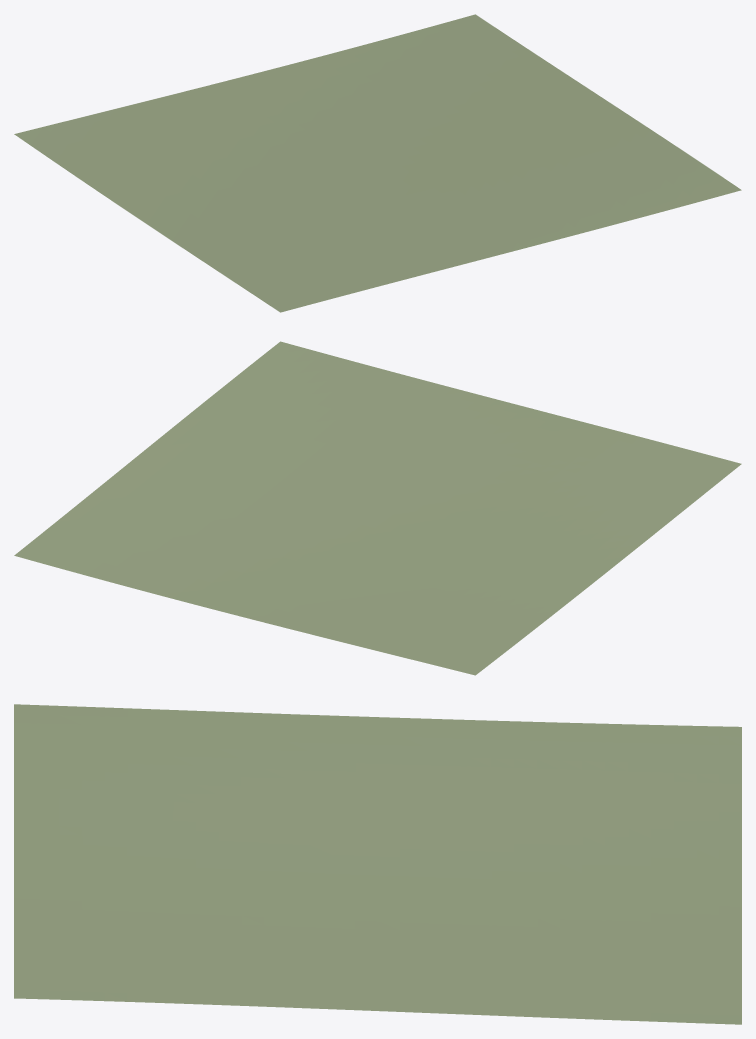
File: expanse-24-0.glb
3 renders of one model, top to bottom at view 1: azimuth 30°, elevation 25°; view 2: azimuth 150°, elevation 25°; view 3: azimuth 270°, elevation 25°, orthographic. The views are drawn at different scales.
Parts seen in each view (by area): view 1: expanse-24-0; view 2: expanse-24-0; view 3: expanse-24-0.
Part boxes in pixels (box(x1,y1,x2,y2)): expanse-24-0: box(14, 14, 741, 312); expanse-24-0: box(14, 341, 741, 675); expanse-24-0: box(14, 704, 741, 1024).
Bounding box in the file's own units: 256 × 13.99 × 256.
